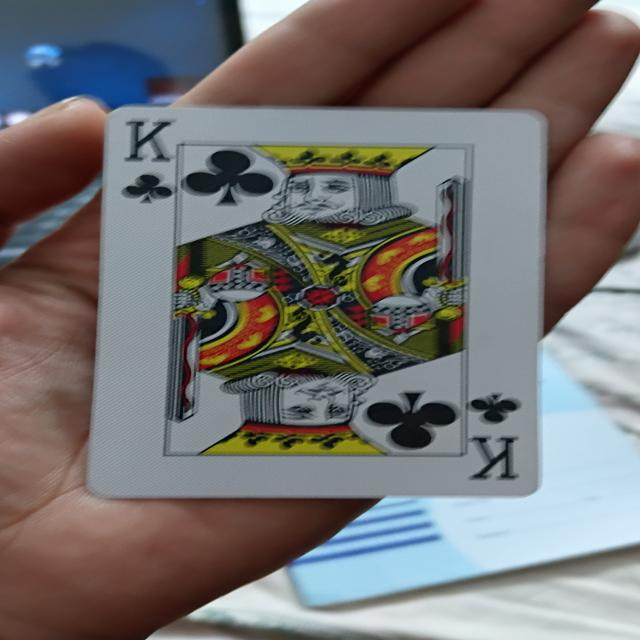KC: (111, 107, 538, 496)
